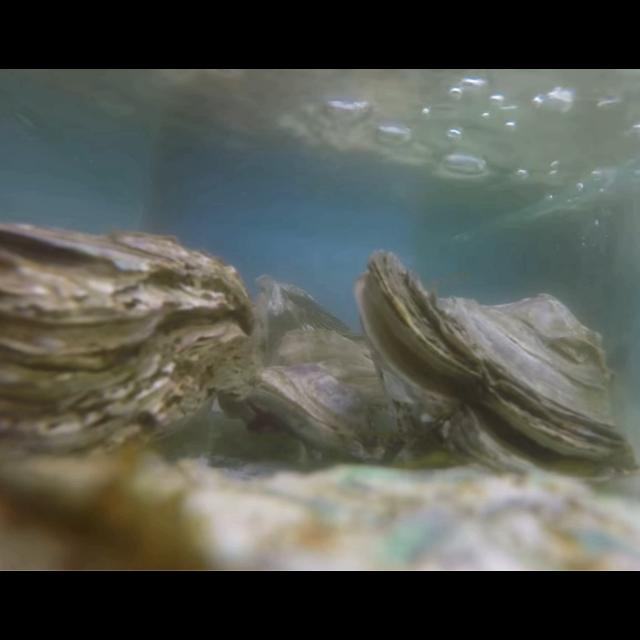Oyster-Closed: (0, 453, 640, 571), (0, 222, 252, 490), (254, 274, 370, 364)
Oyster-Open: (354, 250, 640, 492), (256, 327, 414, 463)
